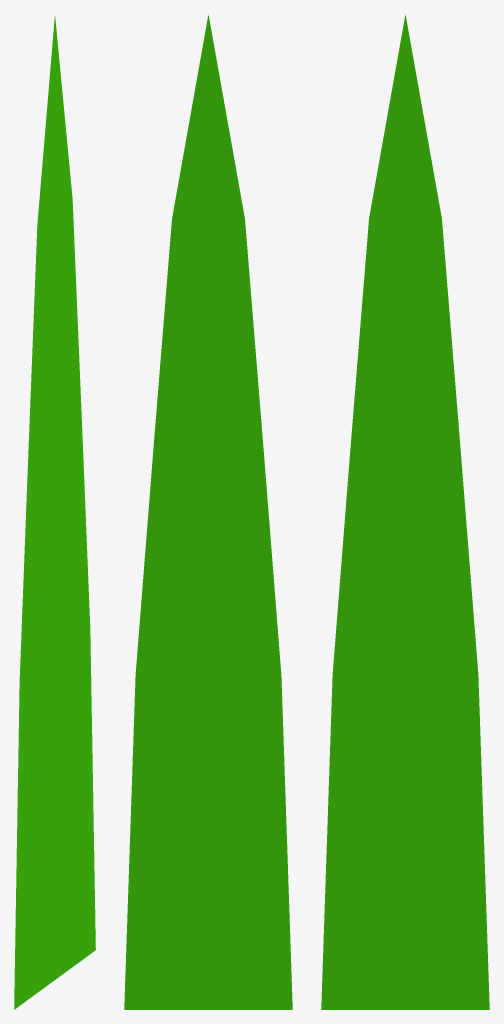
Rendered from SM_BakedMesh.OA.fbx.
The picture shows the model from 3 angles, left to right: view 1: azimuth 30°, elevation 25°; view 2: azimuth 150°, elevation 25°; view 3: azimuth 330°, elevation 25°; orthographic projection. The views are drawn at different scales.
Visible parts, largest first — view 1: BakedMesh.OA; view 2: BakedMesh.OA; view 3: BakedMesh.OA.
Boxes of the visible parts, <box> form: BakedMesh.OA: <box>14,16,95,1009</box>; BakedMesh.OA: <box>124,14,292,1009</box>; BakedMesh.OA: <box>321,14,489,1009</box>.
Bounding box in the file's own units: 6.26 × 47.14 × 3.61.
